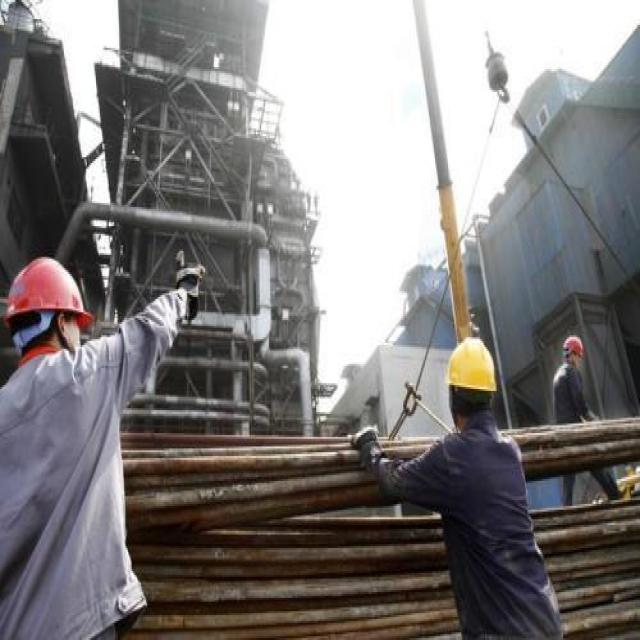hat: (2, 249, 98, 376), (442, 330, 504, 436), (561, 333, 588, 372)
